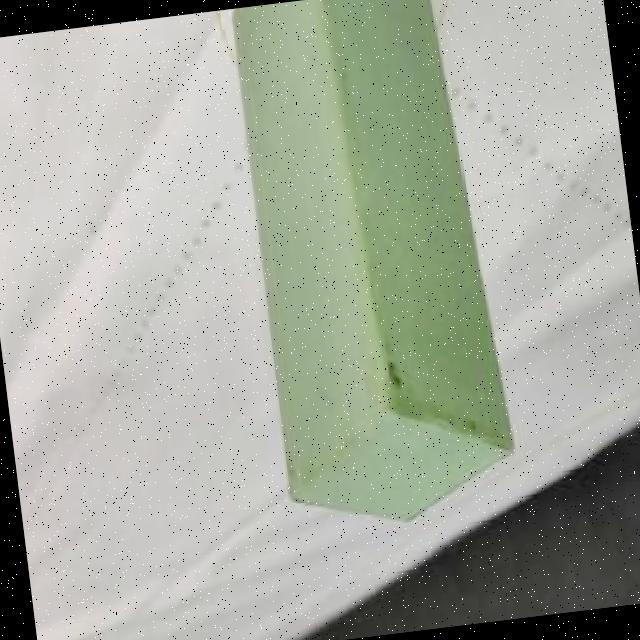greenbox: (229, 0, 526, 539)
